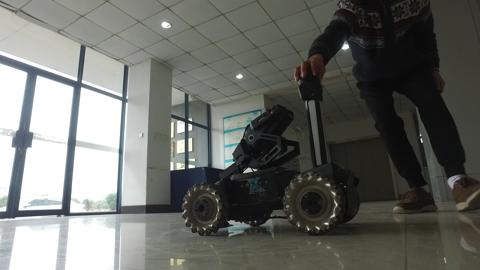chariot: (167, 66, 374, 241)
